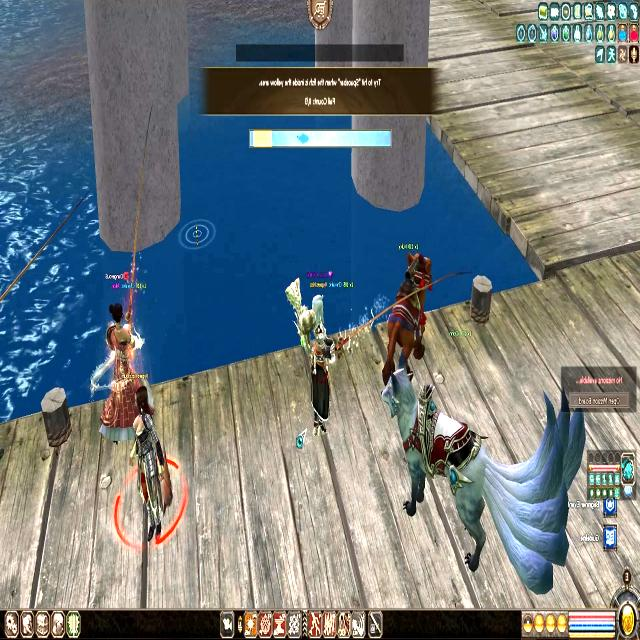fishes: (296, 132, 310, 144)
